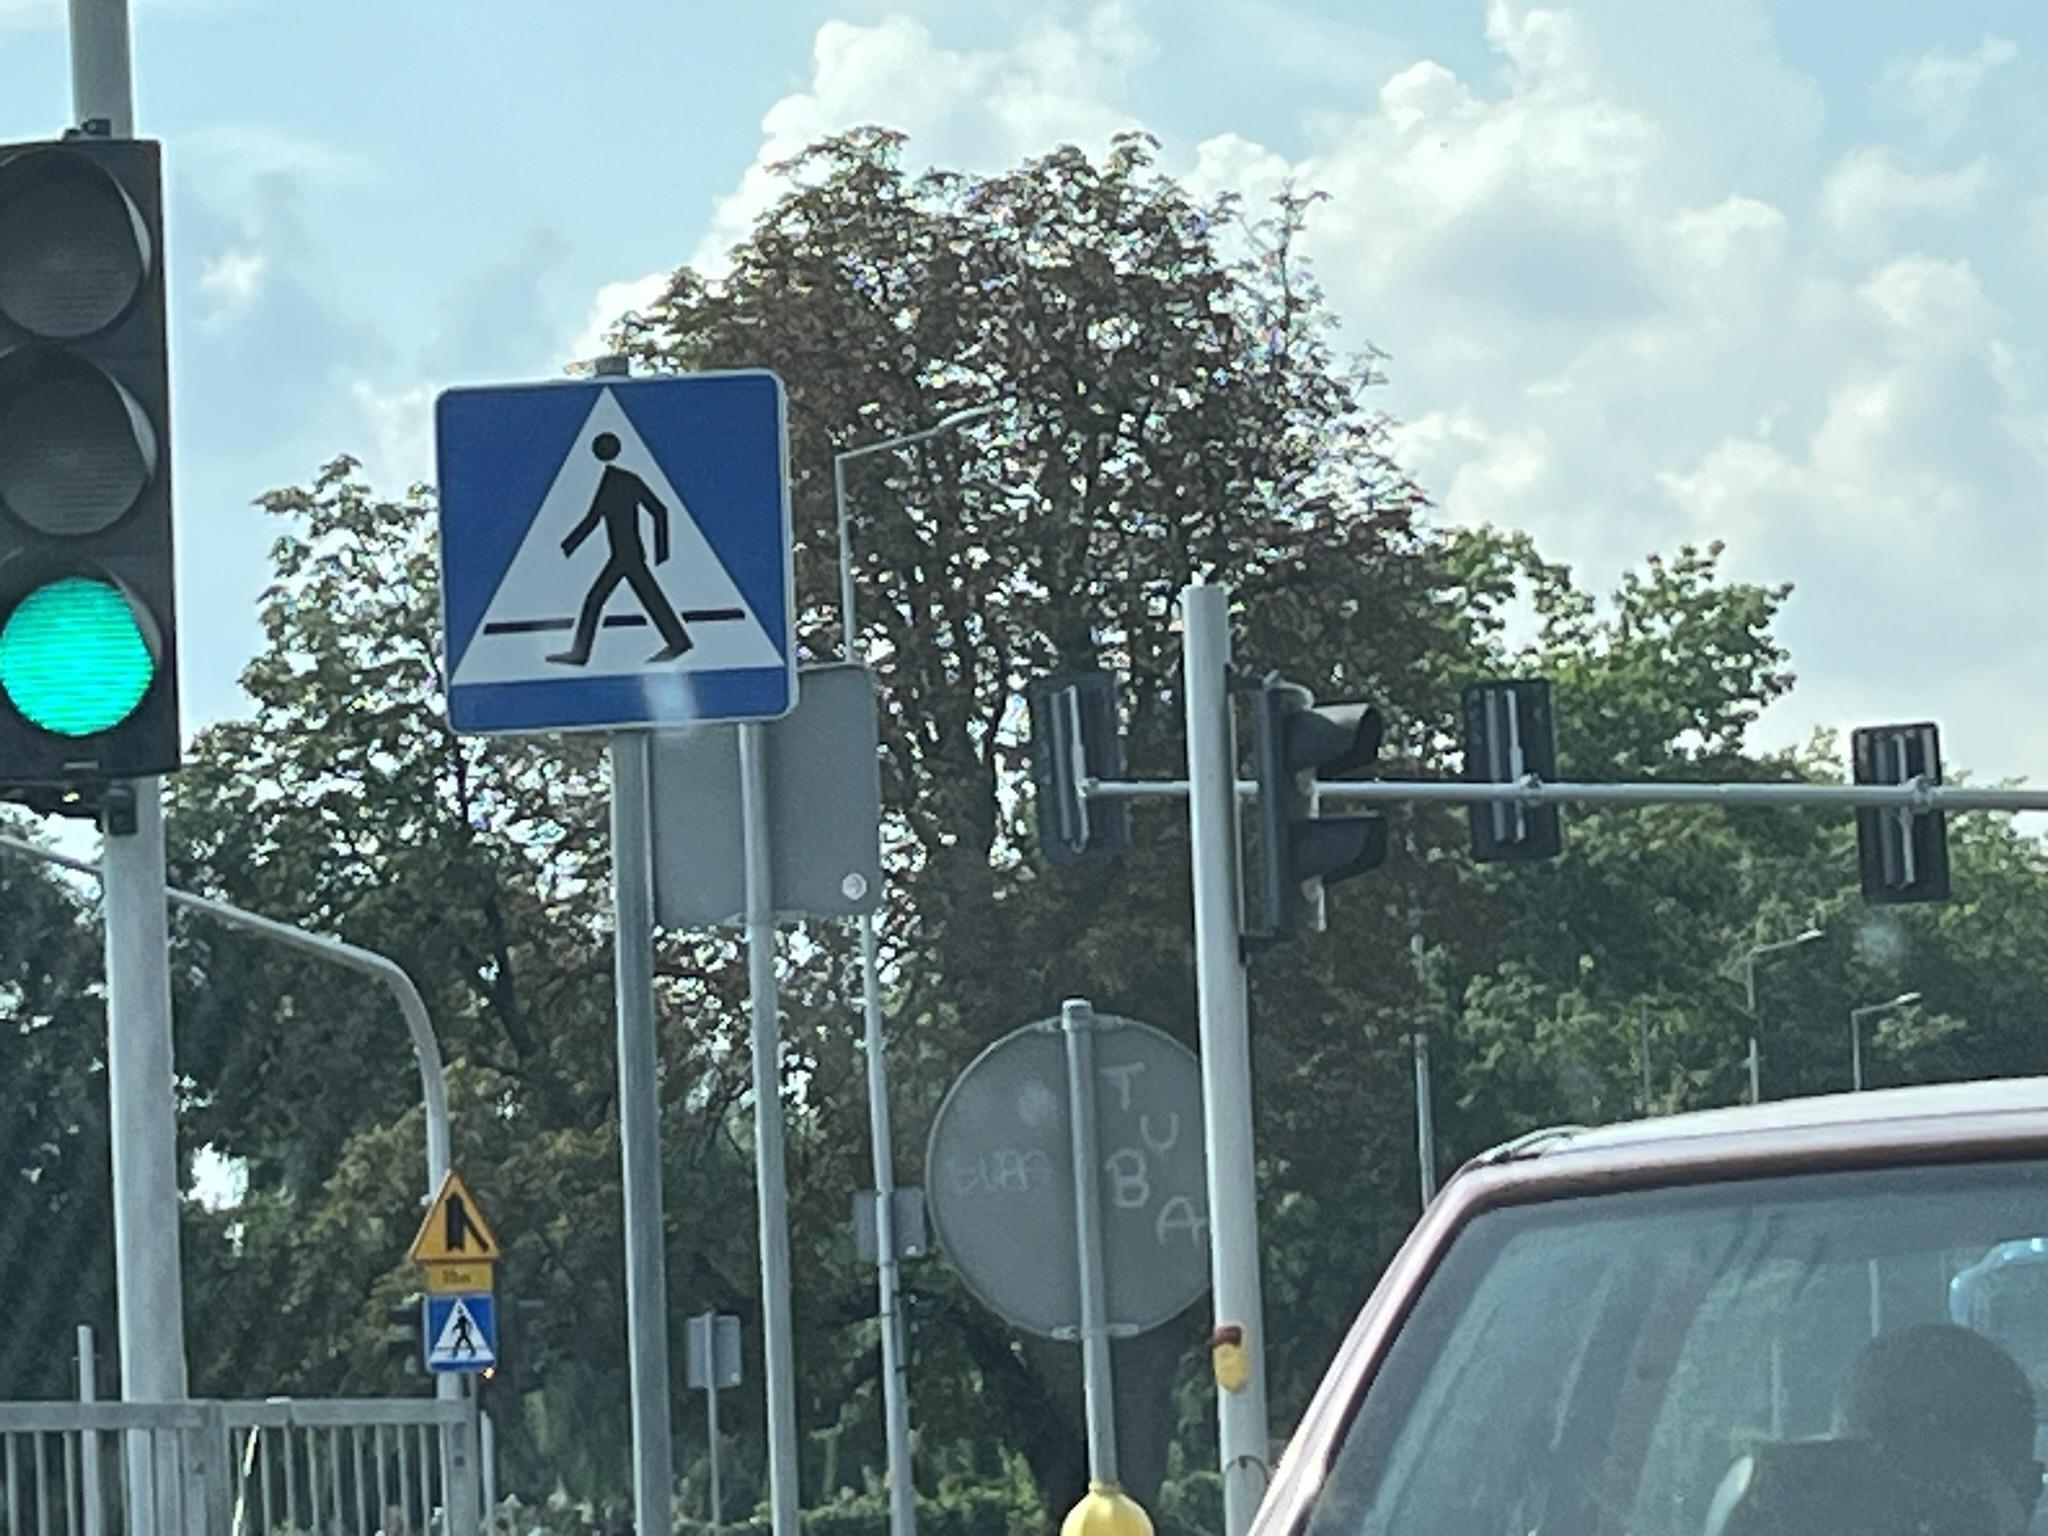information: (439, 379, 789, 720), (426, 1297, 498, 1368)
other: (429, 1263, 492, 1292)
warning: (410, 1170, 502, 1262)
